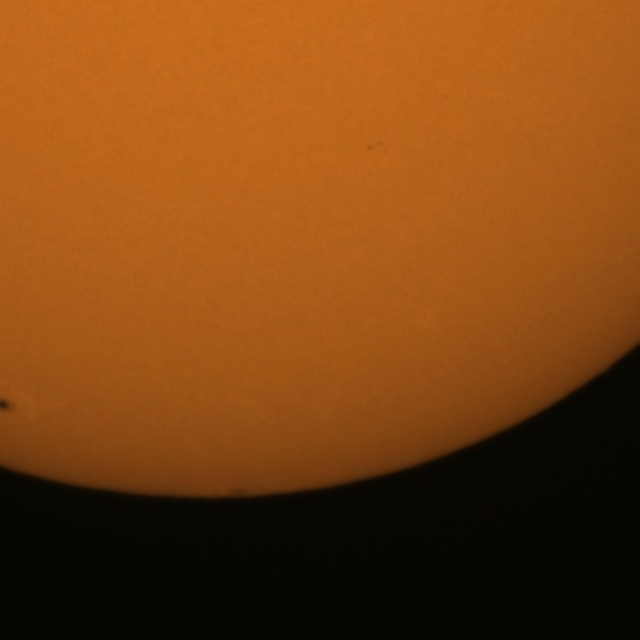sunspot: (365, 140, 389, 156), (0, 396, 18, 416)
